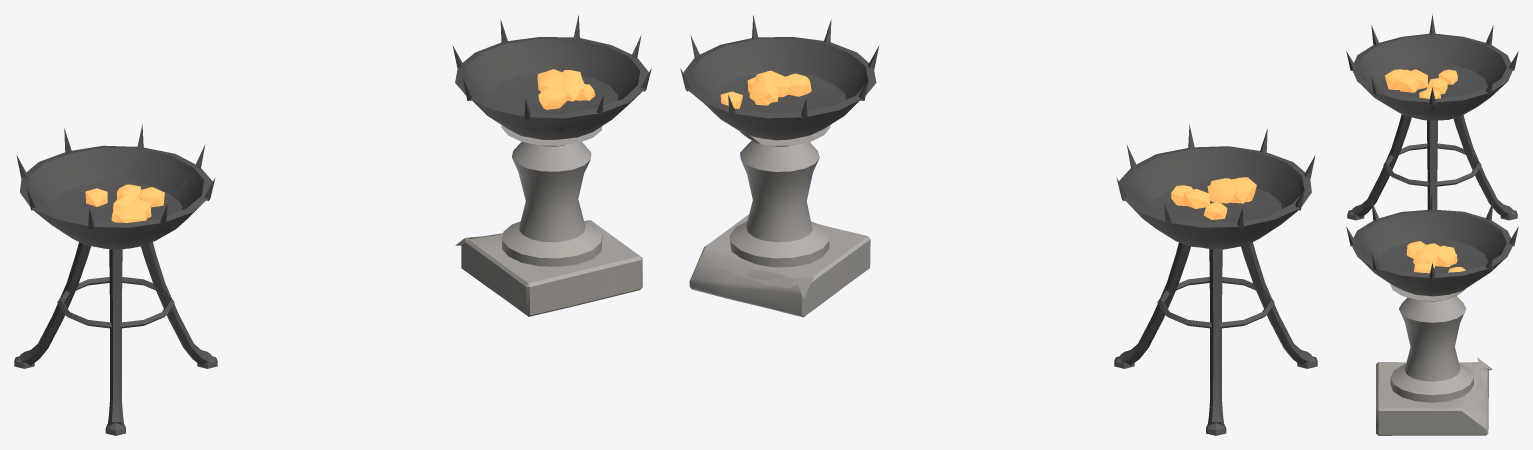
File: brazier.glb
The picture shows the model from 3 angles, left to right: view 1: azimuth 30°, elevation 25°; view 2: azimuth 150°, elevation 25°; view 3: azimuth 270°, elevation 25°; orthographic projection. The views are drawn at different scales.
Parts seen in each view (by area): view 1: bowl.001, bowl, baluster, base, leg2, leg0, leg1, ring_ns; view 2: bowl.001, bowl, baluster, base, leg1, leg0, leg2, ring_ns; view 3: bowl.001, bowl, baluster, base, leg2, leg1, ring_ns, leg0, ember3_ns.001, ember1_ns, ember0_ns.001, ember0_ns (+4 smaller).
Part boxes in pixels (<box>): bowl.001: <box>455,37,648,139</box>; bowl: <box>20,145,212,249</box>; baluster: <box>501,125,602,266</box>; base: <box>455,220,642,316</box>; leg2: <box>107,249,124,425</box>; leg0: <box>141,242,211,365</box>; leg1: <box>20,242,90,365</box>; ring_ns: <box>57,277,174,328</box>; bowl.001: <box>683,37,876,140</box>; bowl: <box>1119,146,1311,249</box>; baluster: <box>730,125,830,267</box>; base: <box>689,214,870,317</box>; leg1: <box>1207,249,1224,425</box>; leg0: <box>1120,242,1190,365</box>; leg2: <box>1241,242,1311,365</box>; ring_ns: <box>1157,277,1274,328</box>; bowl.001: <box>1351,209,1513,296</box>; bowl: <box>1352,33,1513,120</box>; baluster: <box>1390,283,1473,402</box>; base: <box>1376,357,1492,435</box>; leg2: <box>1352,114,1411,217</box>; leg1: <box>1453,115,1512,217</box>; ring_ns: <box>1383,143,1481,186</box>; leg0: <box>1427,120,1437,209</box>; ember3_ns.001: <box>1432,245,1457,266</box>; ember1_ns: <box>1396,73,1417,92</box>; ember0_ns.001: <box>1413,248,1436,268</box>; ember0_ns: <box>1385,69,1410,89</box>.
Size of the model in its own units: 4.23 by 1.48 by 1.23.
